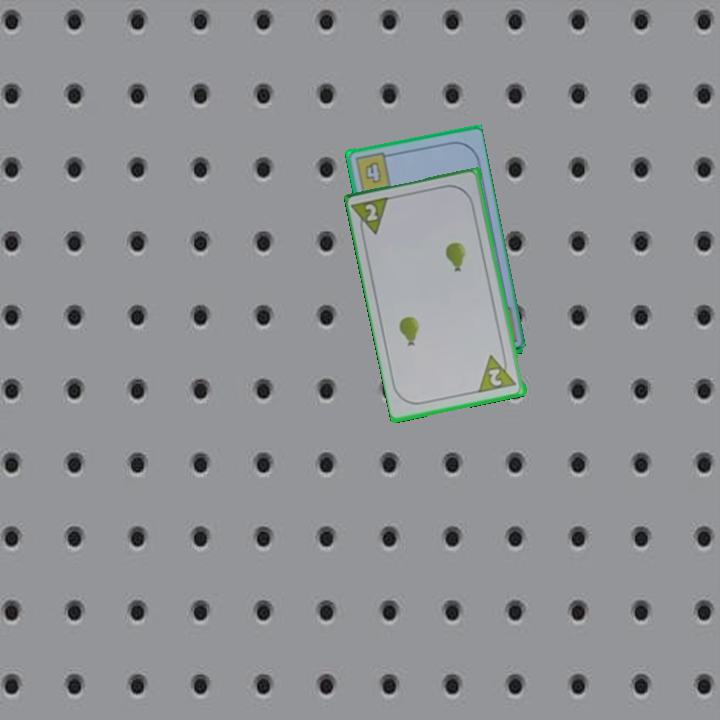2p: (350, 193, 394, 241), (476, 349, 520, 396)
4b: (351, 149, 395, 196)
